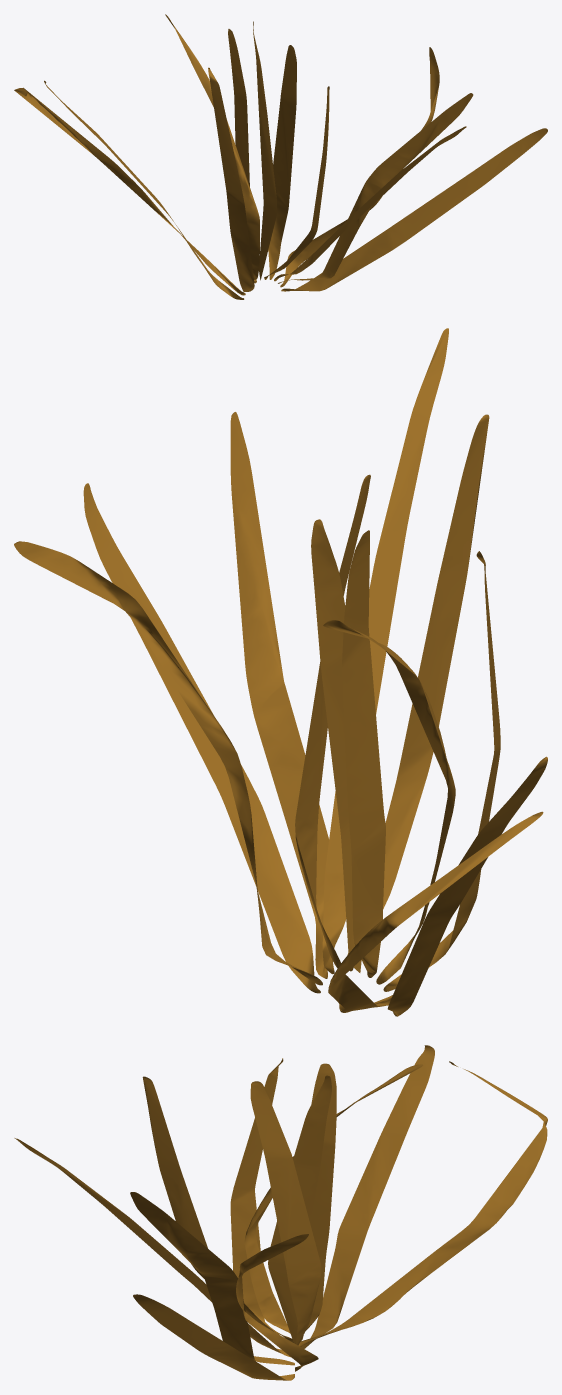
Rendered from Blades04.fbx.
3 views of the same model, one above another, from view 1: azimuth 30°, elevation 25°; view 2: azimuth 150°, elevation 25°; view 3: azimuth 270°, elevation 25° (orthographic). The views are drawn at different scales.
Visible parts, largest first — view 1: polySurface108, polySurface110, polySurface112, polySurface117, polySurface114, polySurface118, polySurface116, polySurface115, polySurface111, polySurface109, polySurface113, polySurface119; view 2: polySurface110, polySurface115, polySurface113, polySurface108, polySurface111, polySurface109, polySurface114, polySurface112, polySurface119, polySurface118, polySurface116, polySurface117; view 3: polySurface119, polySurface112, polySurface118, polySurface110, polySurface114, polySurface117, polySurface113, polySurface115, polySurface108, polySurface116, polySurface111, polySurface109.
Part boxes in pixels (left/top/right/bottom): polySurface108: left=281, top=128, right=547, bottom=291; polySurface110: left=278, top=93, right=473, bottom=283; polySurface112: left=268, top=45, right=296, bottom=279; polySurface117: left=208, top=67, right=254, bottom=291; polySurface114: left=253, top=21, right=276, bottom=280; polySurface118: left=14, top=87, right=245, bottom=295; polySurface116: left=165, top=14, right=259, bottom=279; polySurface115: left=228, top=29, right=256, bottom=283; polySurface111: left=274, top=126, right=466, bottom=281; polySurface109: left=280, top=47, right=439, bottom=287; polySurface113: left=264, top=86, right=329, bottom=279; polySurface119: left=44, top=80, right=244, bottom=299; polySurface110: left=230, top=412, right=328, bottom=978; polySurface115: left=342, top=530, right=385, bottom=977; polySurface113: left=347, top=414, right=489, bottom=971; polySurface108: left=83, top=483, right=320, bottom=993; polySurface111: left=322, top=328, right=448, bottom=974; polySurface109: left=14, top=541, right=322, bottom=985; polySurface114: left=311, top=519, right=361, bottom=972; polySurface112: left=295, top=474, right=370, bottom=968; polySurface119: left=387, top=756, right=547, bottom=1016; polySurface118: left=328, top=811, right=543, bottom=1012; polySurface116: left=323, top=620, right=455, bottom=984; polySurface117: left=383, top=551, right=500, bottom=991; polySurface119: left=301, top=1045, right=434, bottom=1348; polySurface112: left=250, top=1081, right=321, bottom=1345; polySurface118: left=298, top=1061, right=547, bottom=1346; polySurface110: left=130, top=1192, right=294, bottom=1365; polySurface114: left=268, top=1075, right=331, bottom=1343; polySurface117: left=230, top=1058, right=293, bottom=1342; polySurface113: left=142, top=1076, right=275, bottom=1332; polySurface115: left=306, top=1063, right=336, bottom=1330; polySurface108: left=133, top=1294, right=294, bottom=1380; polySurface116: left=244, top=1064, right=423, bottom=1333; polySurface111: left=14, top=1138, right=290, bottom=1357; polySurface109: left=236, top=1233, right=318, bottom=1371.
Size of the model in its own units: 0.8744 by 0.5784 by 0.9541.
